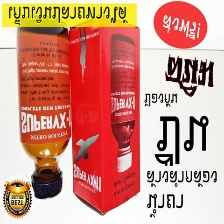book: (68, 13, 142, 217)
cleaning_solution: (12, 14, 72, 200)
